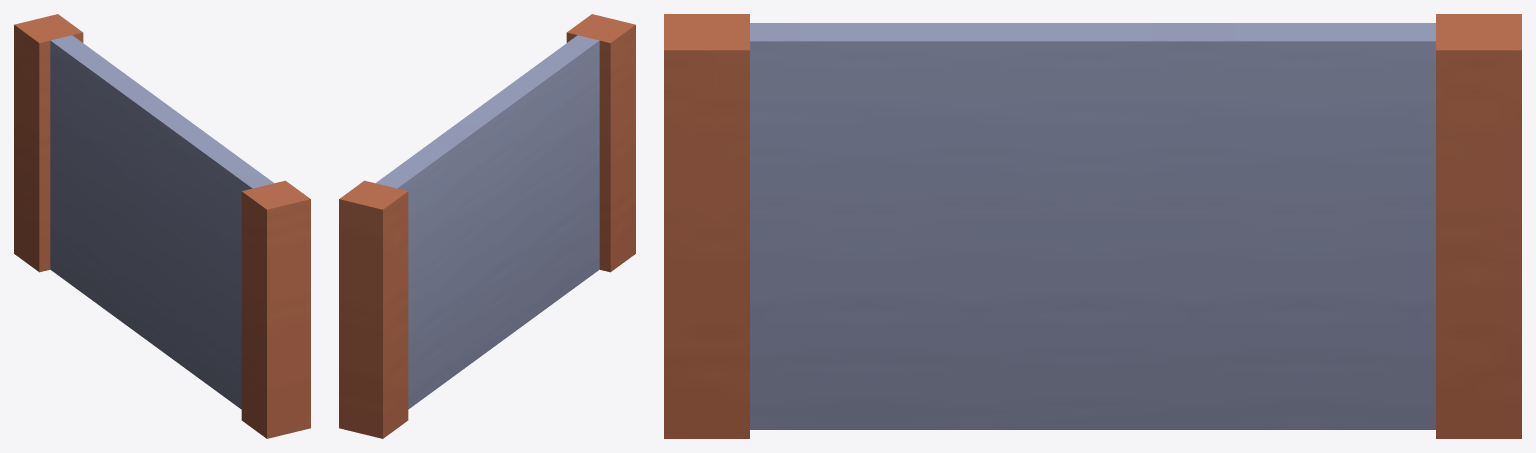
Rendered from wallHalf.fbx.
3 renders of one model, left to right at view 1: azimuth 30°, elevation 25°; view 2: azimuth 150°, elevation 25°; view 3: azimuth 270°, elevation 25°, orthographic. The views are drawn at different scales.
Visible parts, largest first — view 1: wallHalf; view 2: wallHalf; view 3: wallHalf.
Part boxes in pixels (x1=…): wallHalf: x1=14, y1=14, x2=310, y2=438; wallHalf: x1=339, y1=14, x2=635, y2=438; wallHalf: x1=664, y1=14, x2=1521, y2=438.
Size of the model in its own units: 0.1 by 1 by 0.5.
